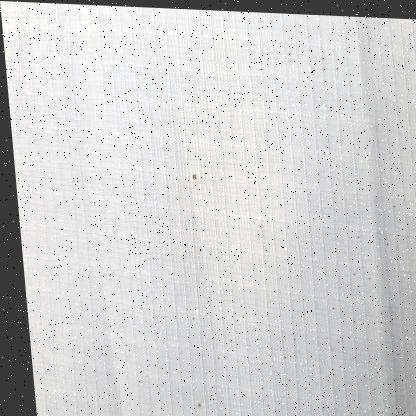spot: (180, 148, 205, 193), (187, 388, 207, 416)
